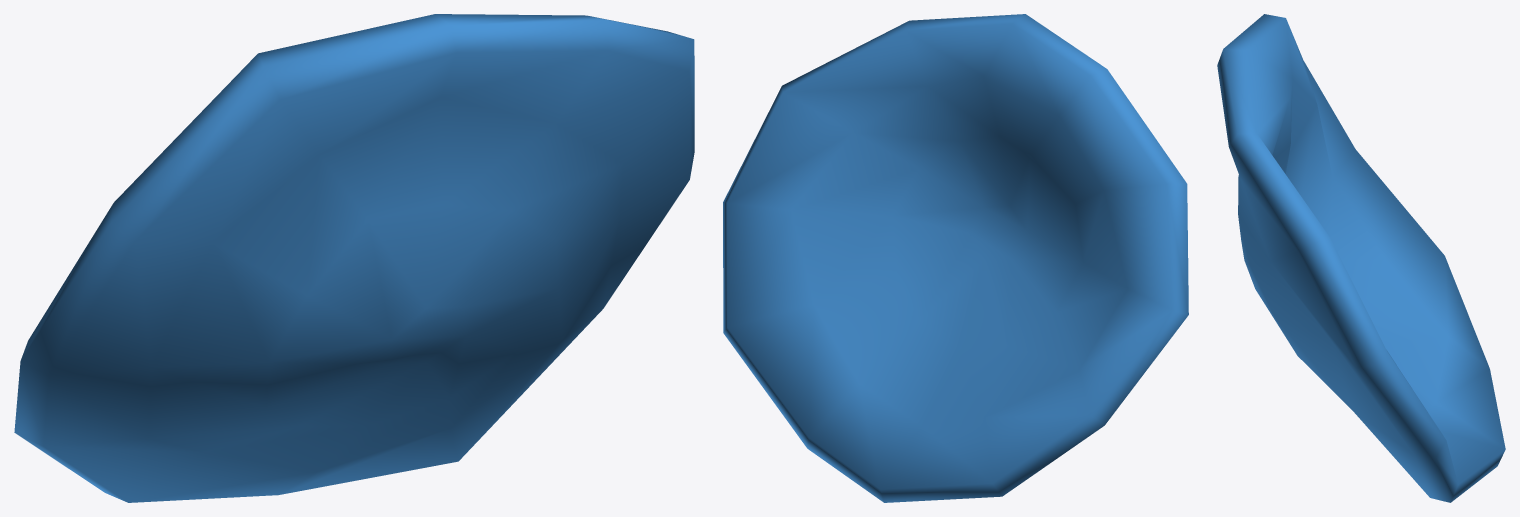
File: coral05a.fbx
The picture shows the model from 3 angles, left to right: view 1: azimuth 30°, elevation 25°; view 2: azimuth 150°, elevation 25°; view 3: azimuth 270°, elevation 25°; orthographic projection. The views are drawn at different scales.
Visible parts, largest first — view 1: Coral05a; view 2: Coral05a; view 3: Coral05a.
Boxes of the visible parts, x1,y1,x2,y2 form: Coral05a: (14, 14, 694, 502); Coral05a: (723, 14, 1188, 502); Coral05a: (1217, 14, 1505, 502).
Bounding box in the file's own units: 417 × 349 × 221.
